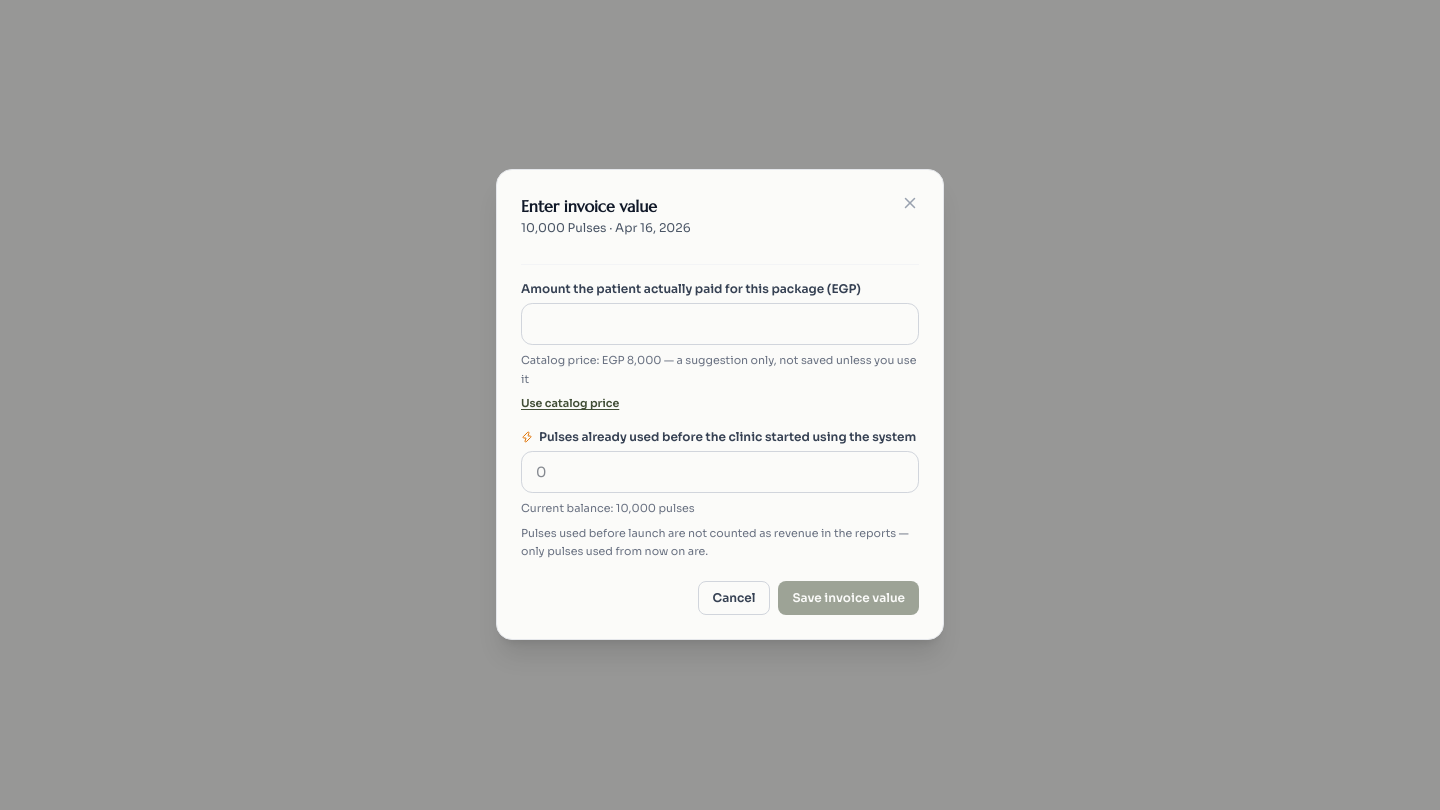
ConfirmPackagePriceModal › a price of 0 is accepted (a free package)
Type "0" into the number field labelled "Amount the patient actually paid for this package (EGP)" at [720, 324], box [521, 303, 919, 345]
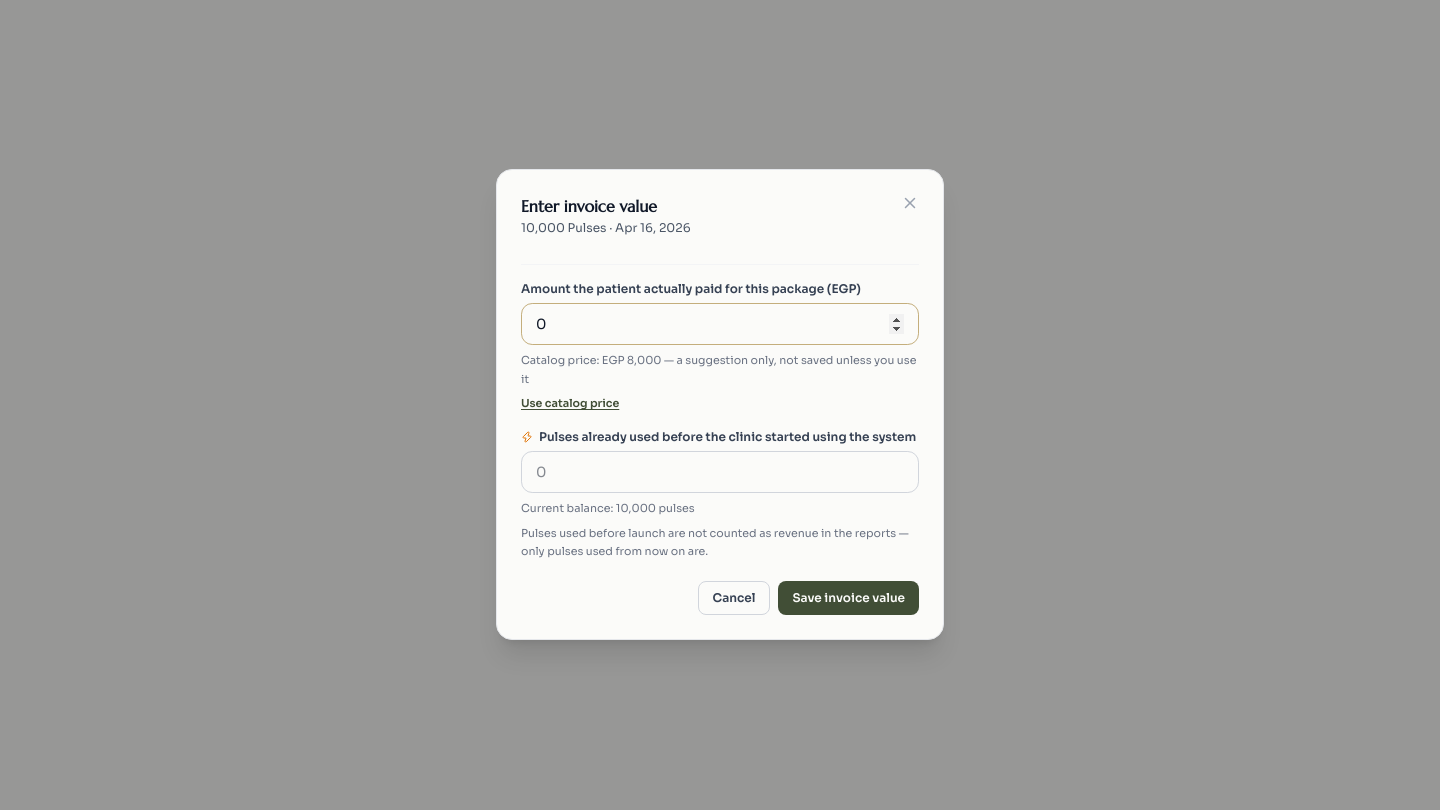
Check: the button "Save invoice value" is enabled, box [778, 582, 919, 616]
